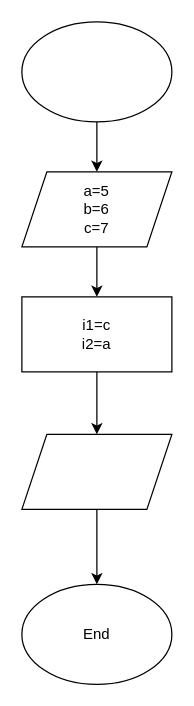
This 194x706 diagram has some shape labels left out. The centre of each missing label's shape, as x and y in pixels:
abc: point 96,471
Start: point 96,71
